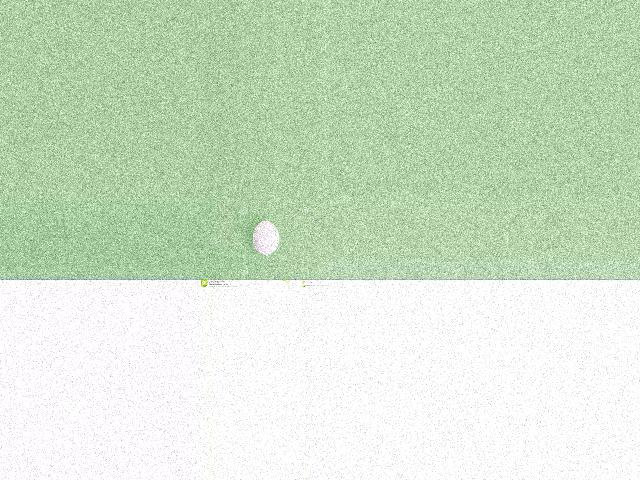egg: (252, 221, 279, 255)
